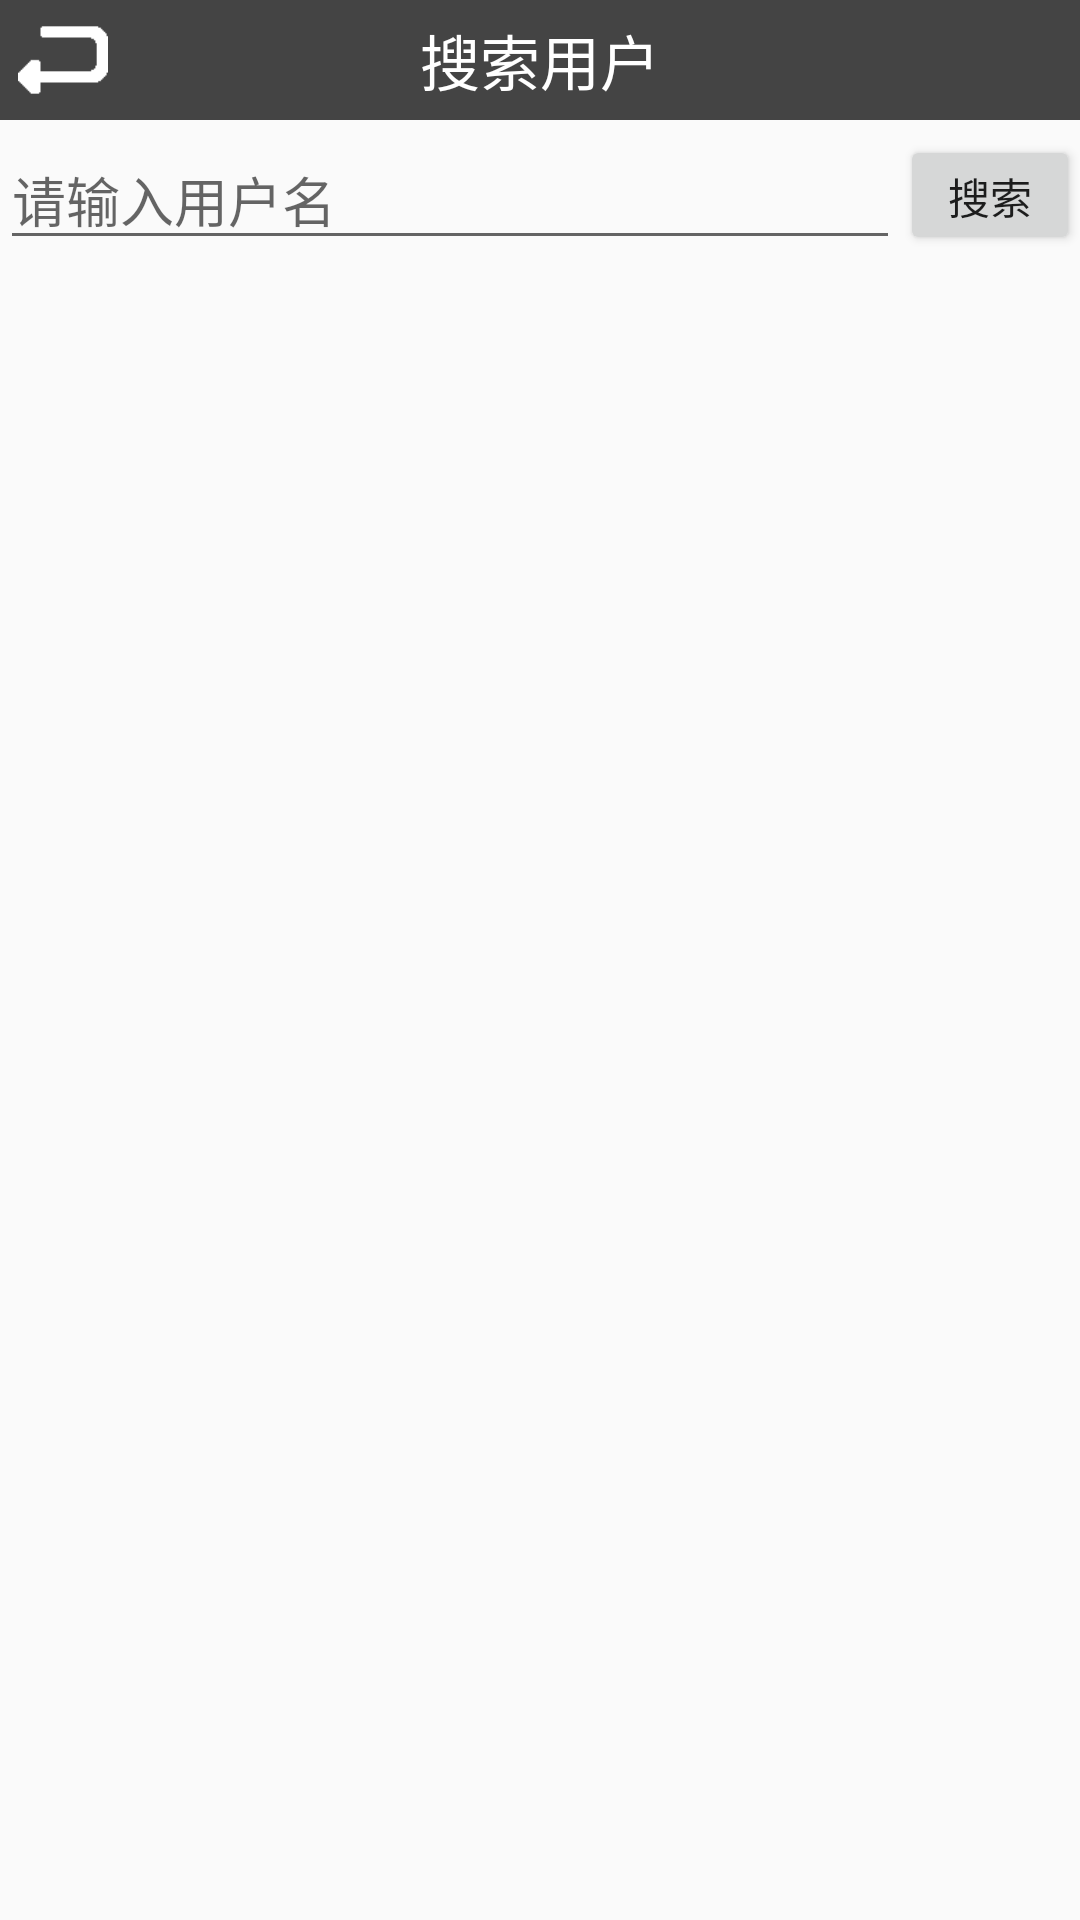

Icons on this 1080w x 1920h Android screen, each with its box as (x1, y1, x2, y2):
back: (18, 26, 108, 94)
